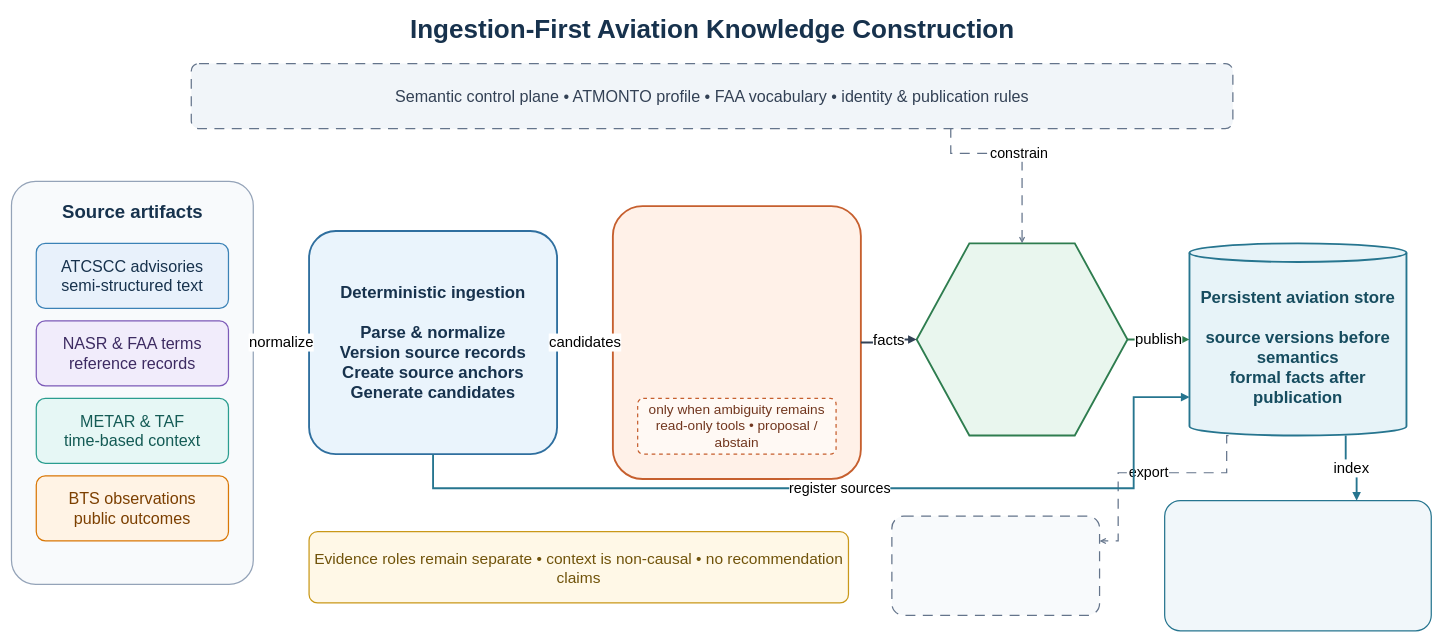
Image size: 1442x642. Some labels were removed from this diagram. The shapes that lost their labels are listed below. From the top down, each one's box as (x1, y1, x2, y2) in pixels, then its label:
(612, 205, 861, 480): Semantic integration Deterministic evidence linking Selective LLM resolution
(915, 242, 1128, 436): Formal Publication Kernel Schema Evidence Provenance Claim boundaries
(891, 515, 1100, 616): Offline KG exports RDF / Turtle • Neo4j
(1164, 500, 1432, 631): Rebuildable retrieval indexes FTS lexical index • Chroma vectors
